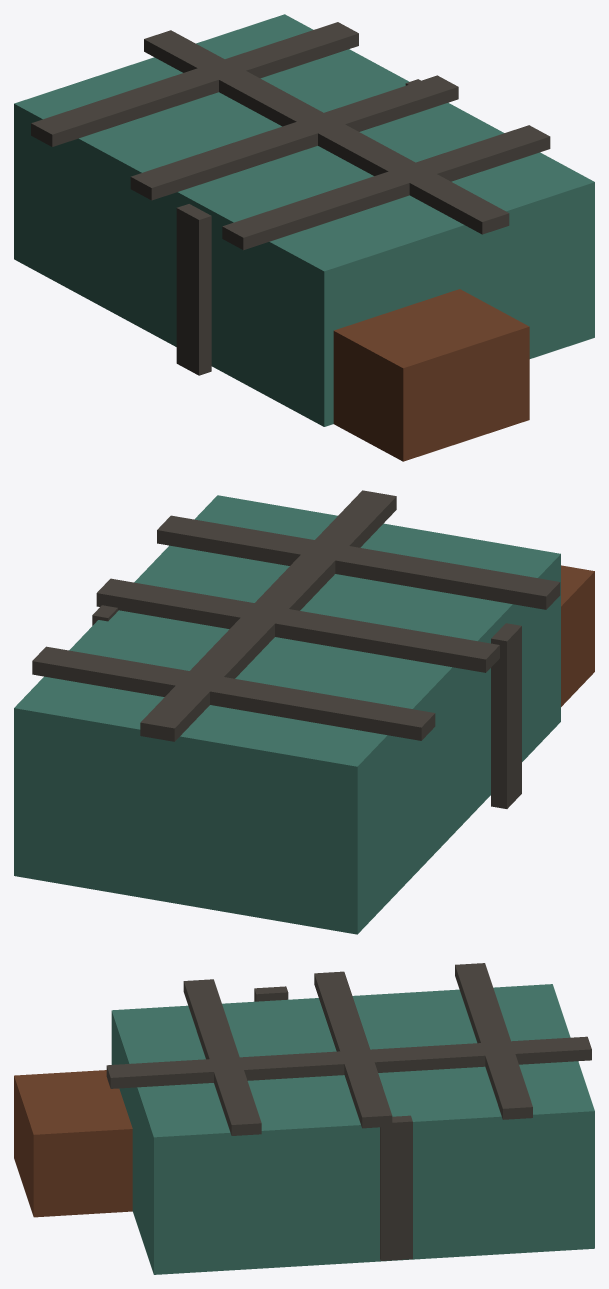
The model's file is salvage_net.glb.
3 views of the same model, one above another, from view 1: azimuth 30°, elevation 25°; view 2: azimuth 150°, elevation 25°; view 3: azimuth 270°, elevation 25° (orthographic). The views are drawn at different scales.
Bounding box in the file's own units: 0.3796 × 0.163 × 0.5739.
